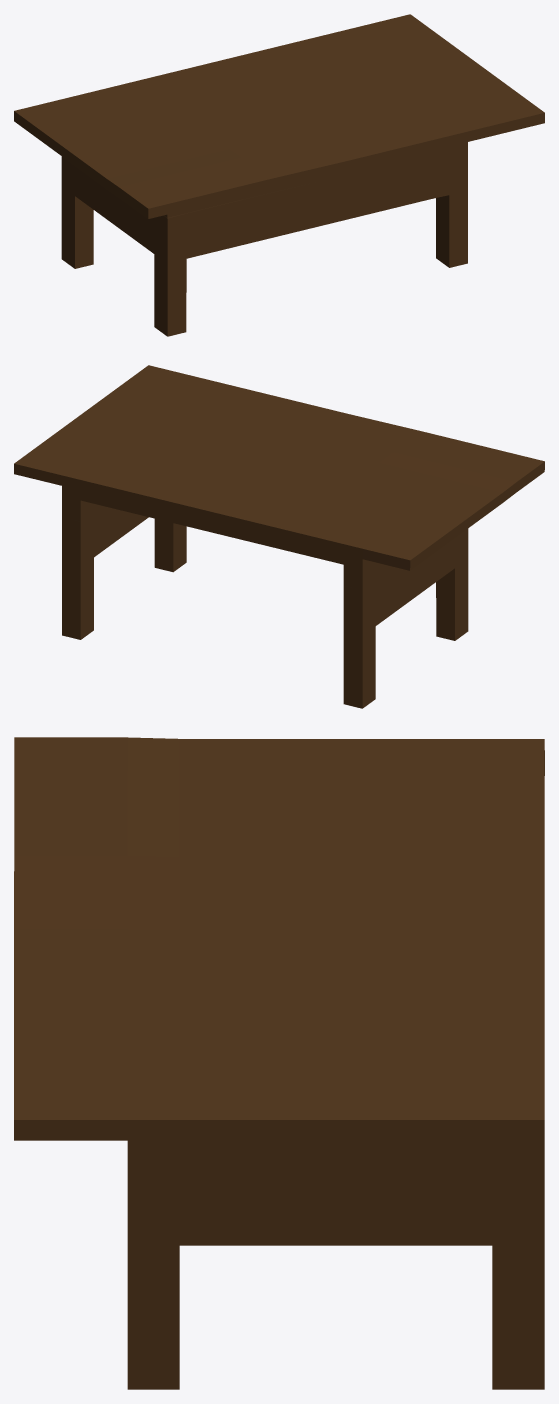
File: escrivaninha.fbx
3 renders of one model, top to bottom at view 1: azimuth 30°, elevation 25°; view 2: azimuth 150°, elevation 25°; view 3: azimuth 270°, elevation 25°, orthographic. The views are drawn at different scales.
Visible parts, largest first — view 1: Cube; view 2: Cube; view 3: Cube.
Part boxes in pixels (x1,y1,x2,y2): Cube: (14,14,544,336); Cube: (14,365,544,708); Cube: (14,737,544,1389).
Size of the model in its own units: 344 by 133 by 202.
